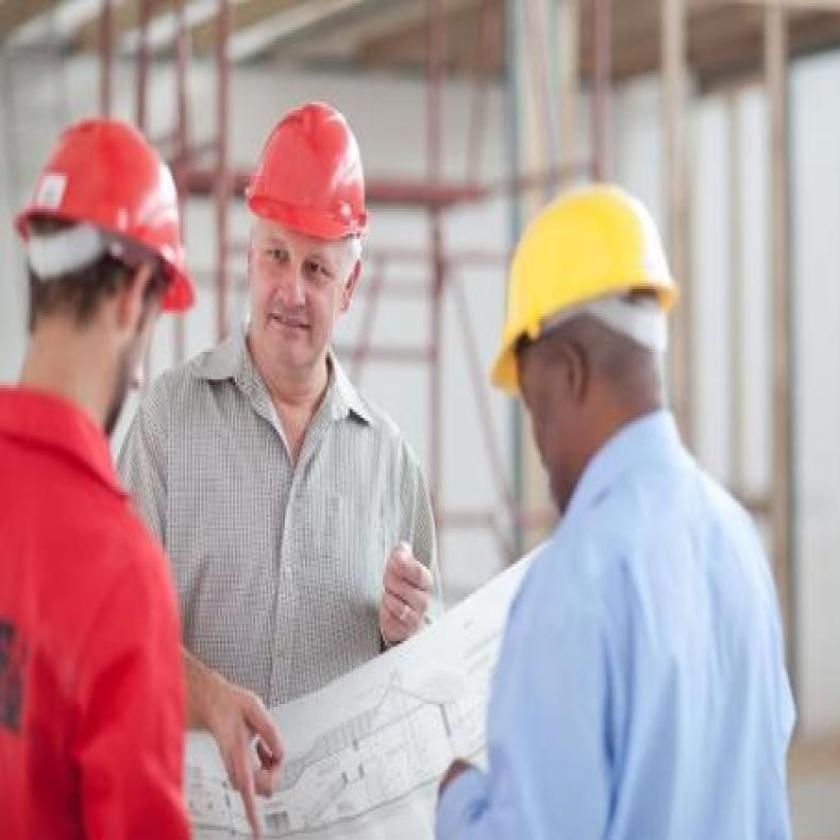Con_casco: (479, 161, 695, 514), (16, 115, 204, 459), (236, 100, 376, 402)
